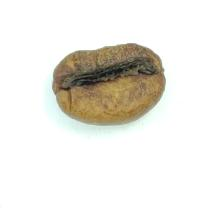NG: (52, 44, 161, 94)
